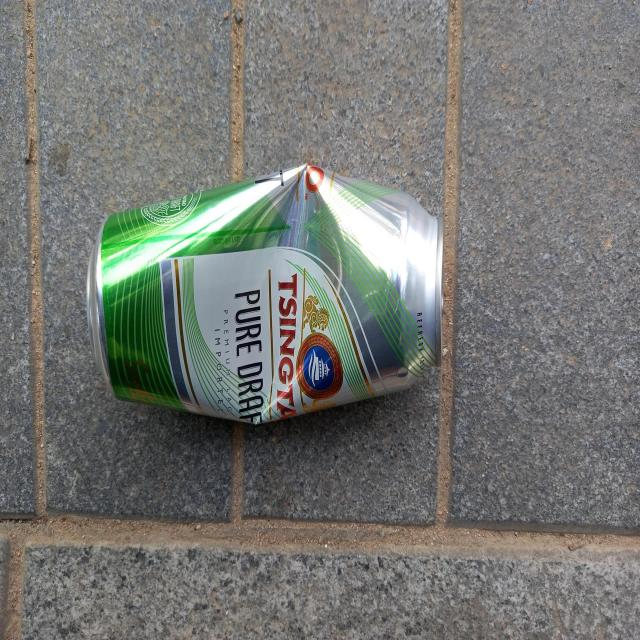can: (86, 164, 444, 424)
